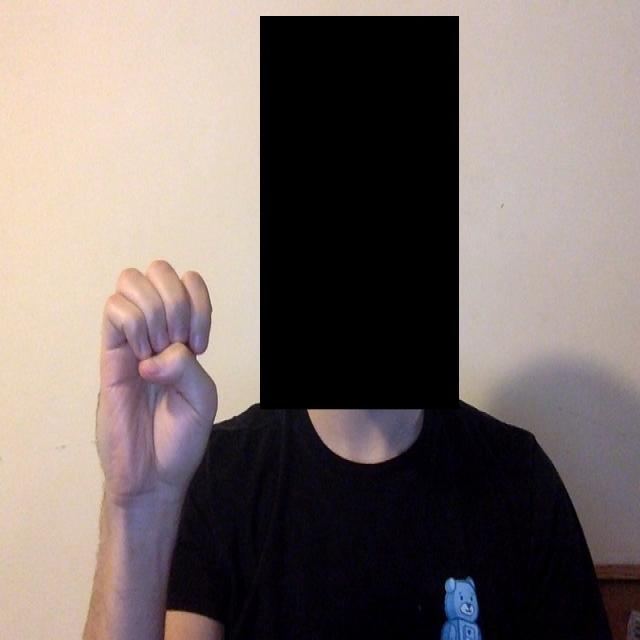E: (87, 243, 262, 524)
